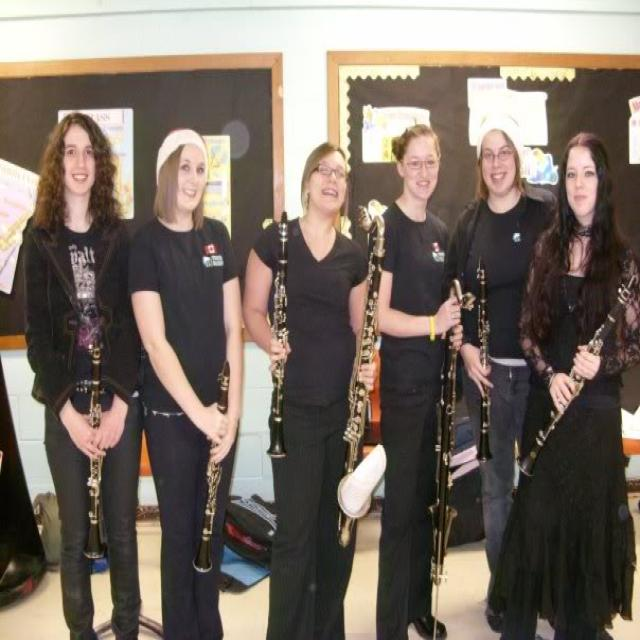clarinet: (515, 272, 639, 483), (190, 321, 233, 575), (423, 266, 456, 587), (264, 207, 292, 462), (79, 324, 105, 568), (472, 253, 492, 474)
saxophone: (332, 200, 387, 550)
